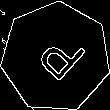P_SW: (25, 26, 86, 89)
